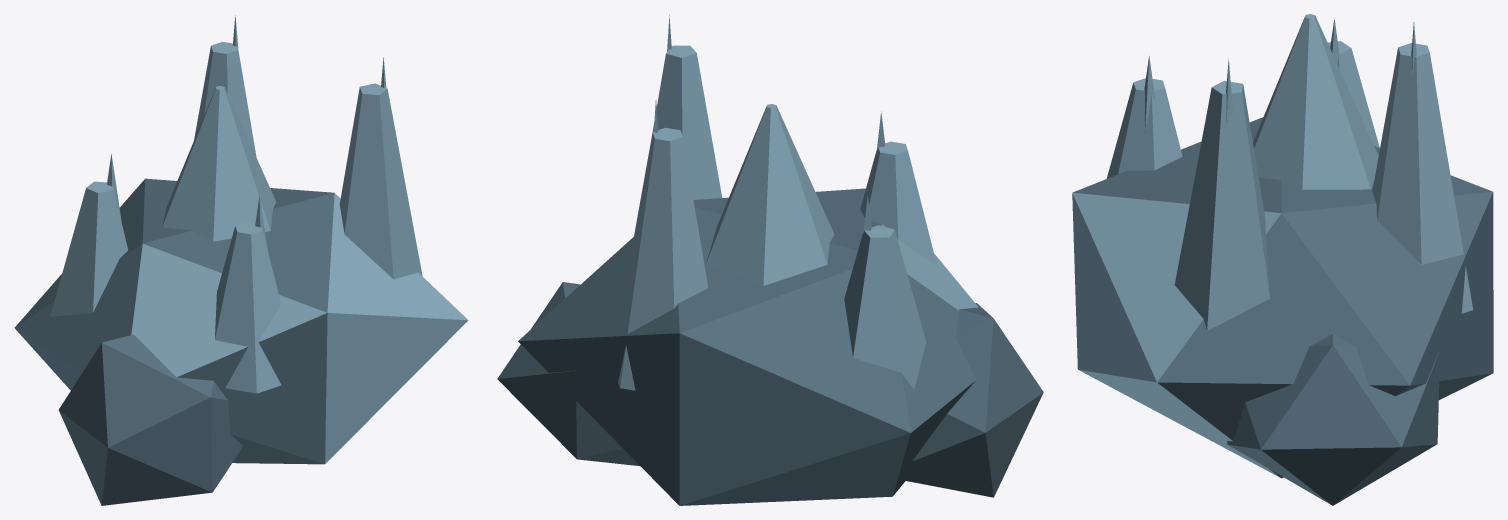
The model's file is ore_iron.obj.
3 renders of one model, left to right at view 1: azimuth 30°, elevation 25°; view 2: azimuth 150°, elevation 25°; view 3: azimuth 270°, elevation 25°, orthographic. The views are drawn at different scales.
Visible parts, largest first — view 1: ore_iron; view 2: ore_iron; view 3: ore_iron.
Part boxes in pixels (<box>): ore_iron: <box>14,15,468,505</box>; ore_iron: <box>497,14,1043,505</box>; ore_iron: <box>1072,14,1493,505</box>.
Size of the model in its own units: 1.84 by 1.68 by 1.48.
